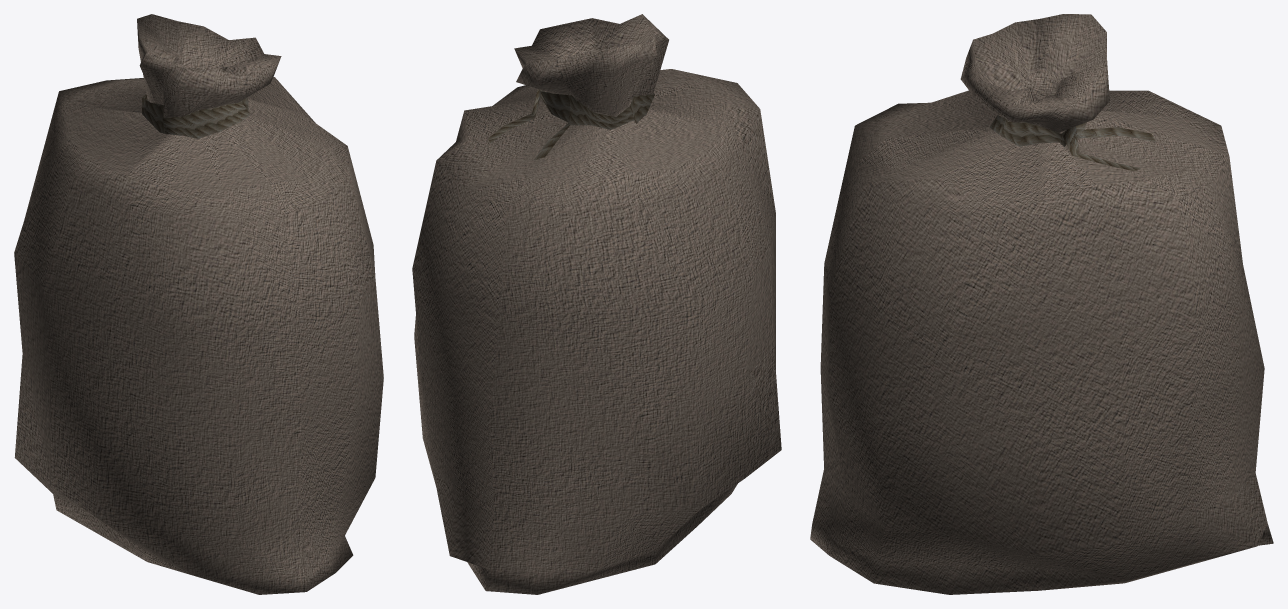
The model's file is saco1.glb.
3 renders of one model, left to right at view 1: azimuth 30°, elevation 25°; view 2: azimuth 150°, elevation 25°; view 3: azimuth 270°, elevation 25°, orthographic. The views are drawn at different scales.
Visible parts, largest first — view 1: Sack1_1; view 2: Sack1_1; view 3: Sack1_1.
Part boxes in pixels (x1,y1,x2,y2): Sack1_1: [14, 14, 383, 594]; Sack1_1: [412, 14, 781, 594]; Sack1_1: [810, 14, 1273, 594].
Size of the model in its own units: 0.4323 by 0.6545 by 0.5376.
Materials: 2 (2 with a texture image).
